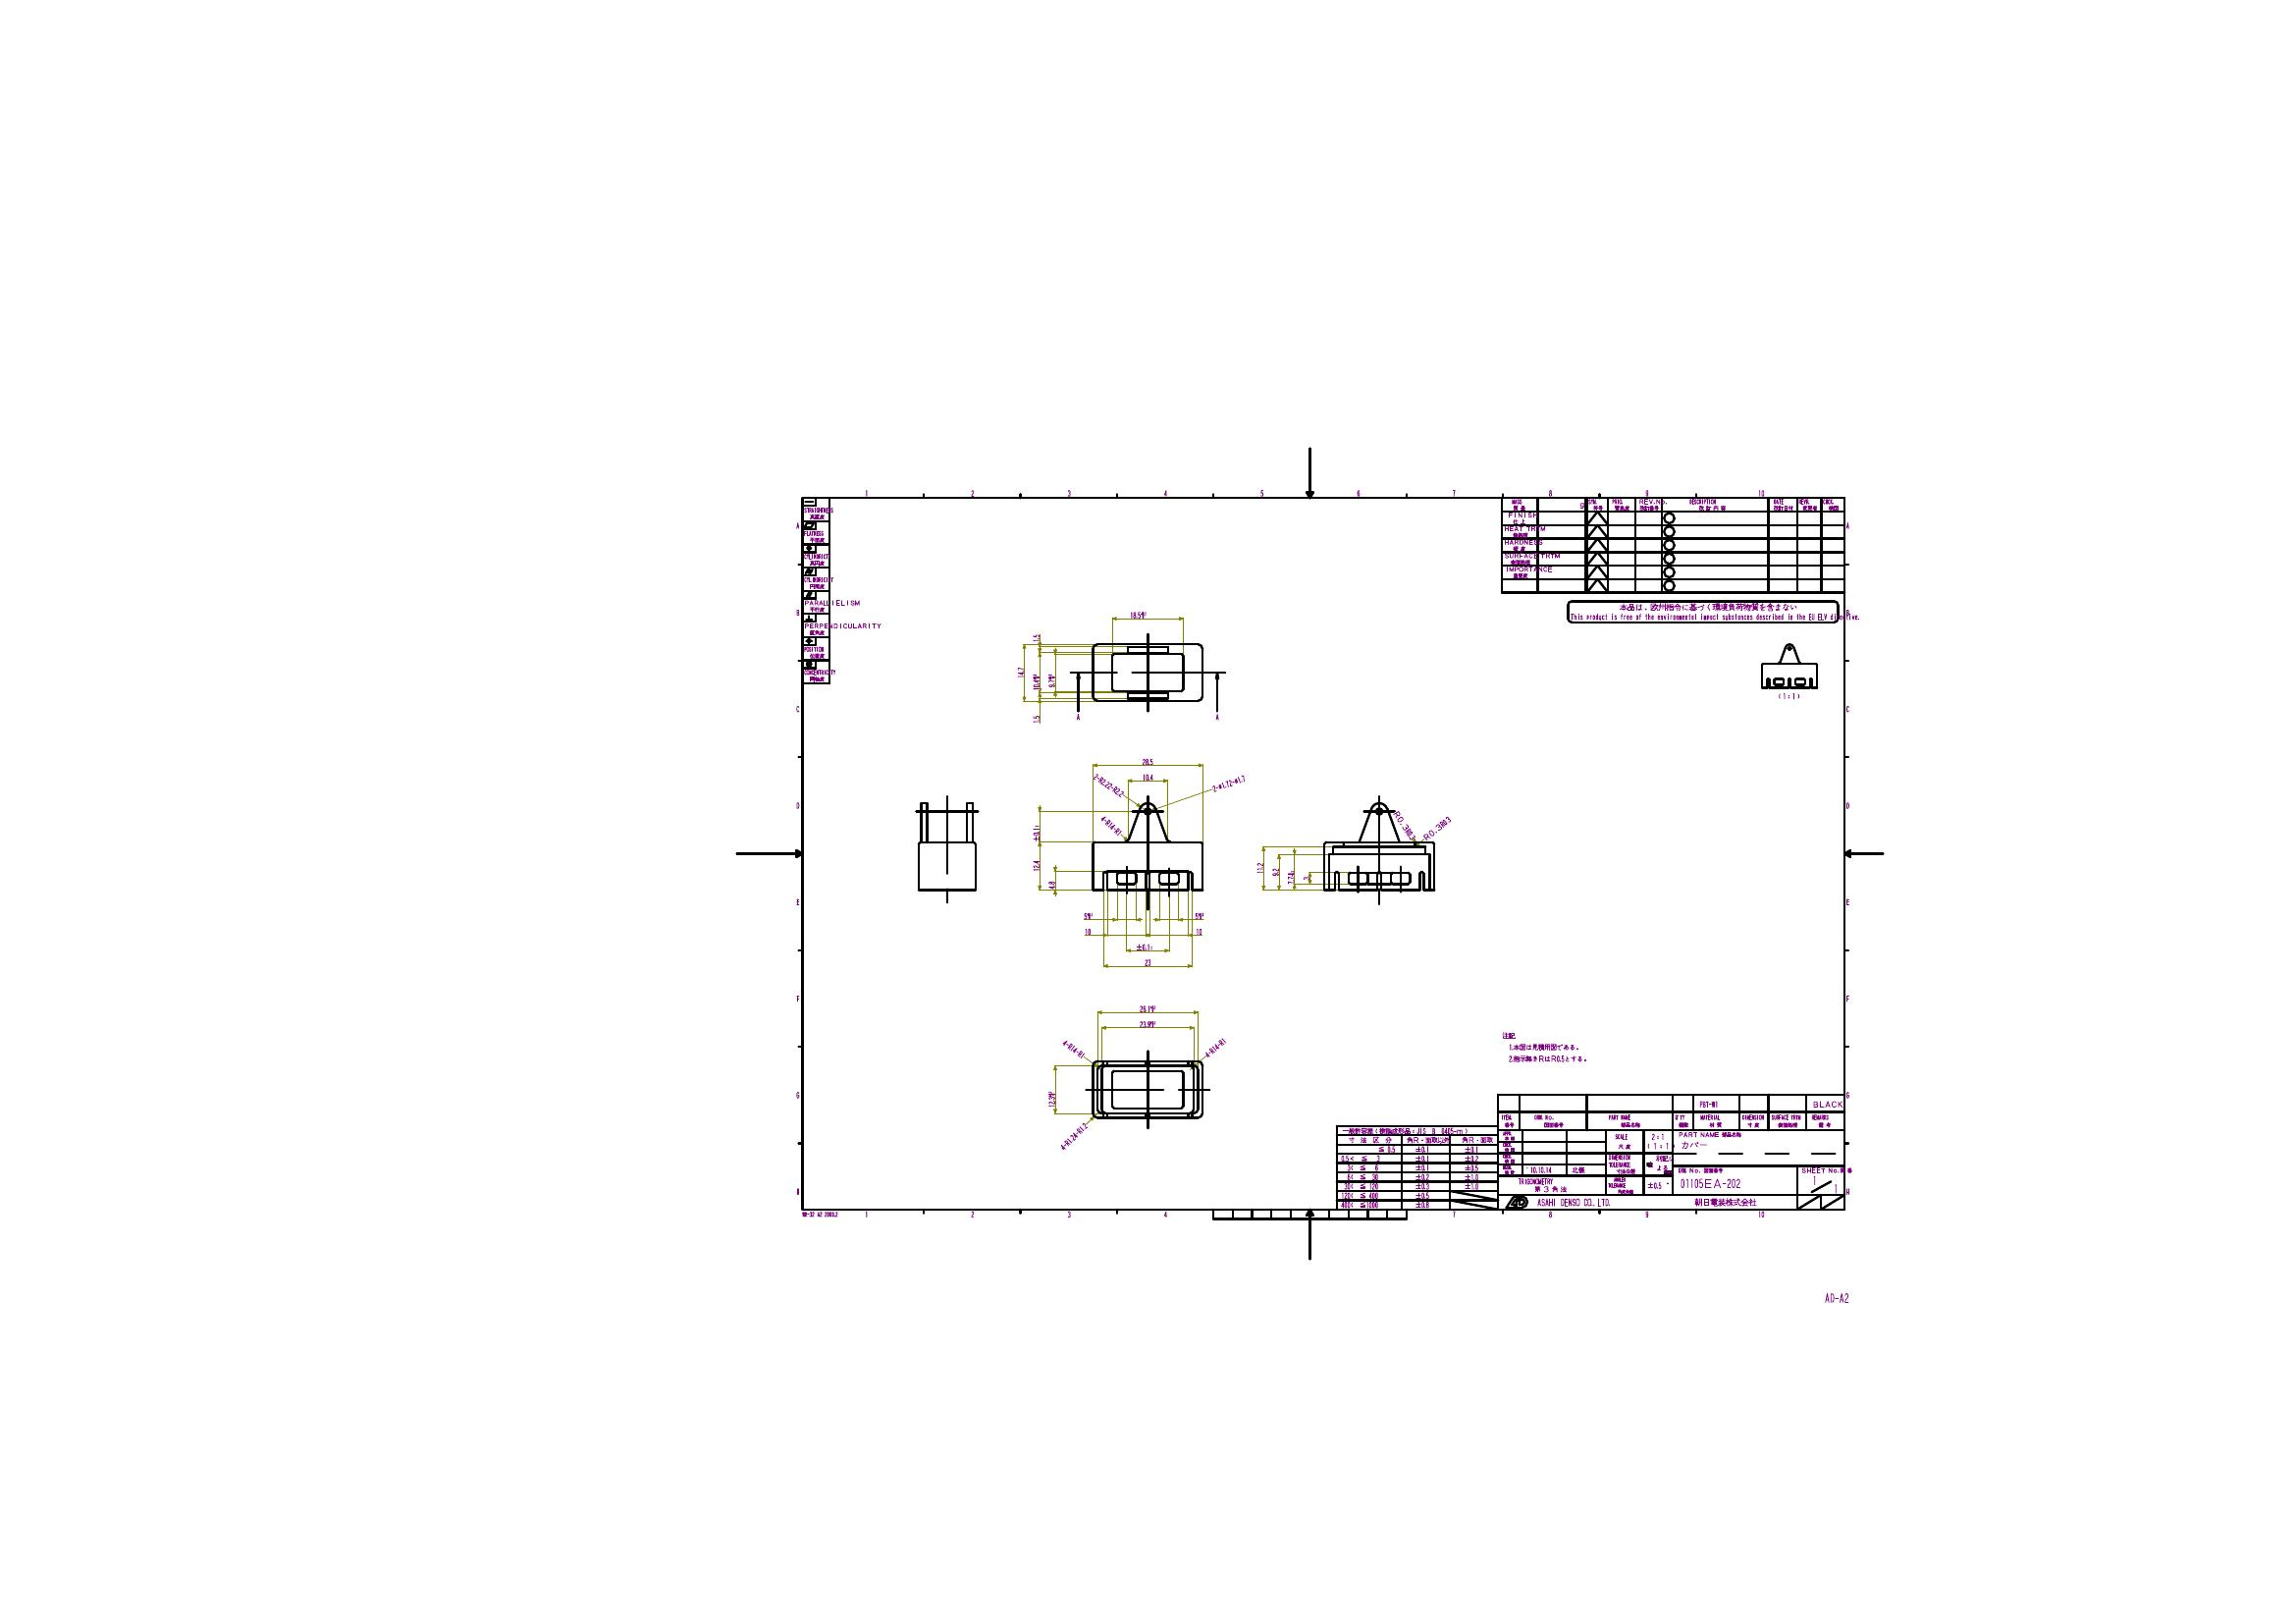anntotation_text: (1567, 599, 1839, 624), (1498, 1028, 1590, 1067), (1822, 1292, 1850, 1302), (799, 1211, 840, 1218), (1072, 712, 1082, 719), (1214, 712, 1221, 722)
dimension_text: (1386, 823, 1425, 831), (1056, 1132, 1091, 1141), (1087, 780, 1128, 787), (1212, 779, 1247, 786), (1419, 824, 1455, 831), (1059, 1046, 1087, 1053), (1202, 1042, 1230, 1049), (1128, 610, 1147, 619), (1138, 1004, 1158, 1012), (1045, 671, 1054, 689), (1096, 823, 1124, 828), (1033, 671, 1040, 691), (1031, 823, 1038, 842), (1135, 942, 1154, 949), (1137, 1019, 1156, 1026), (1047, 1090, 1054, 1107), (1140, 773, 1156, 780), (1140, 758, 1156, 765), (1031, 712, 1040, 724), (1193, 910, 1205, 919), (1015, 664, 1022, 678), (1031, 859, 1038, 874), (1256, 859, 1263, 874), (1288, 870, 1295, 884), (1047, 879, 1056, 889), (1195, 926, 1205, 935), (1142, 956, 1151, 967), (1270, 866, 1279, 877), (1031, 633, 1040, 642), (1084, 910, 1093, 919), (1084, 926, 1091, 935), (1302, 874, 1309, 881)
object: (1091, 803, 1203, 891), (1323, 803, 1435, 891), (1091, 642, 1203, 700), (1091, 1060, 1203, 1118), (917, 801, 973, 891), (1760, 643, 1816, 689)
title_block: (1337, 1093, 1845, 1209), (1504, 497, 1846, 591), (801, 497, 829, 682)
